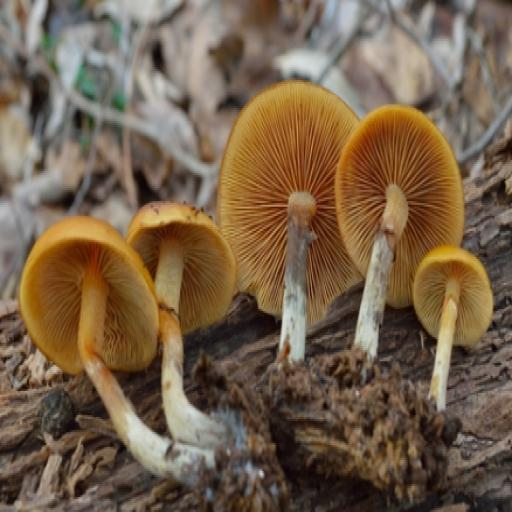Funeral Bell: (219, 77, 496, 406), (19, 193, 241, 482)
